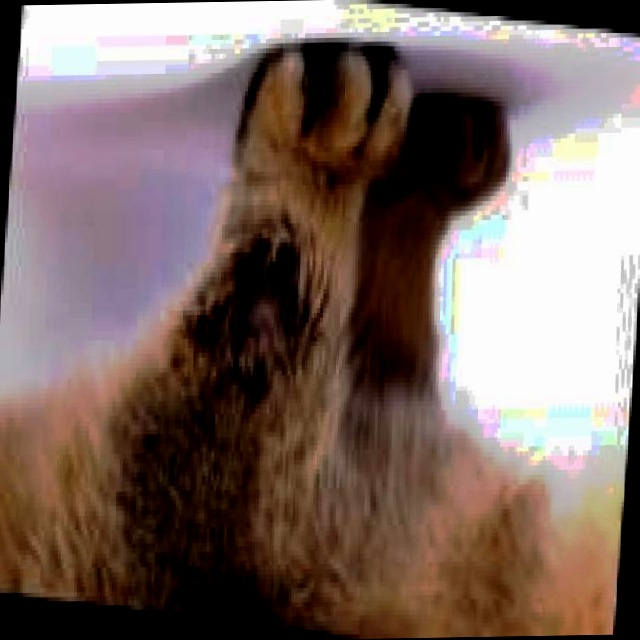ringworm: (225, 253, 285, 388)
